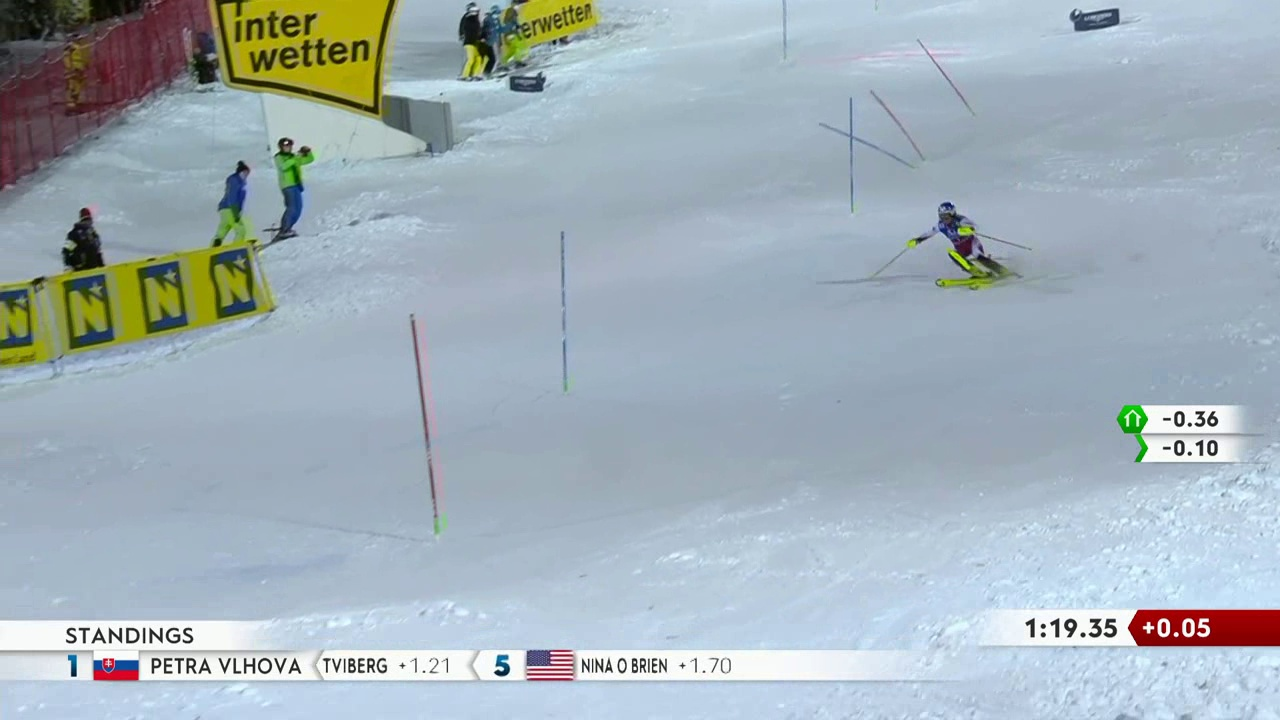interwetten: (224, 2, 380, 101)
raiffeisen: (500, 3, 603, 58)
